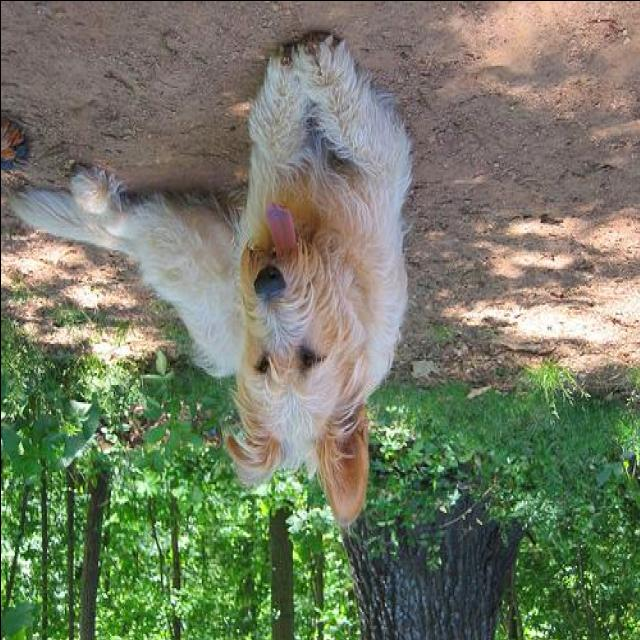irish_wolfhound: (6, 32, 412, 530)
